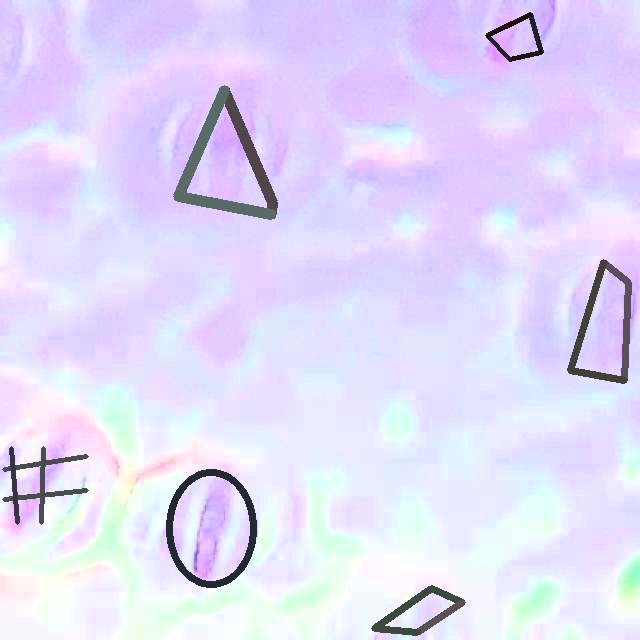open: (174, 85, 276, 219), (165, 467, 257, 589), (567, 259, 631, 383), (2, 446, 87, 524), (372, 586, 464, 634), (485, 12, 543, 61)
